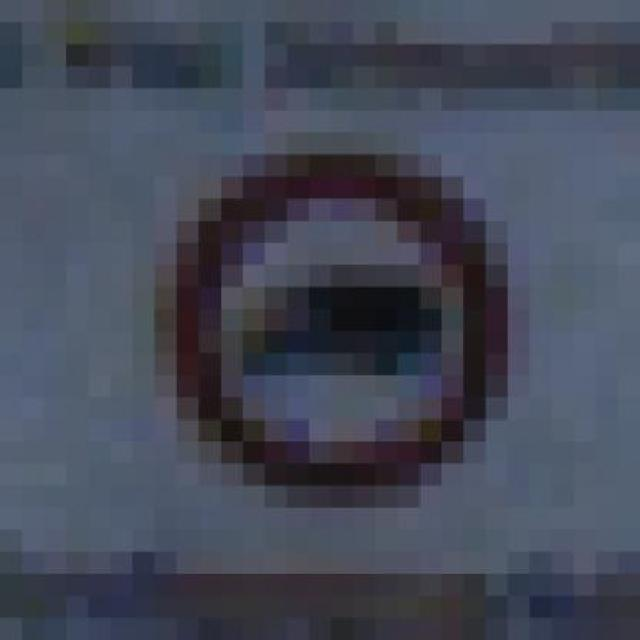Truck traffic is prohibited: (132, 132, 530, 508)
